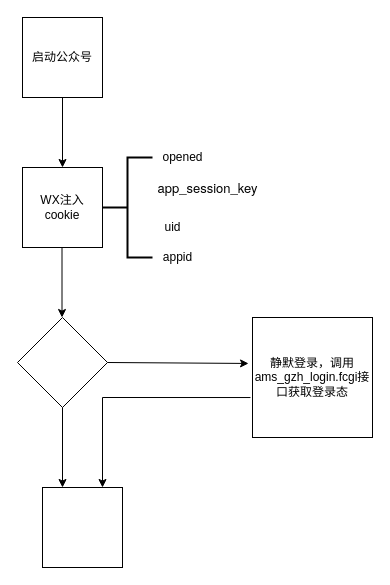
The diagram is 390 pixels wide and 585 high, and some of its shapes have lost their labels. Each missing label, with the box of its shape:
initSDK: (42, 486, 122, 568)
判断能否拿到cookie？: (16, 316, 108, 408)
